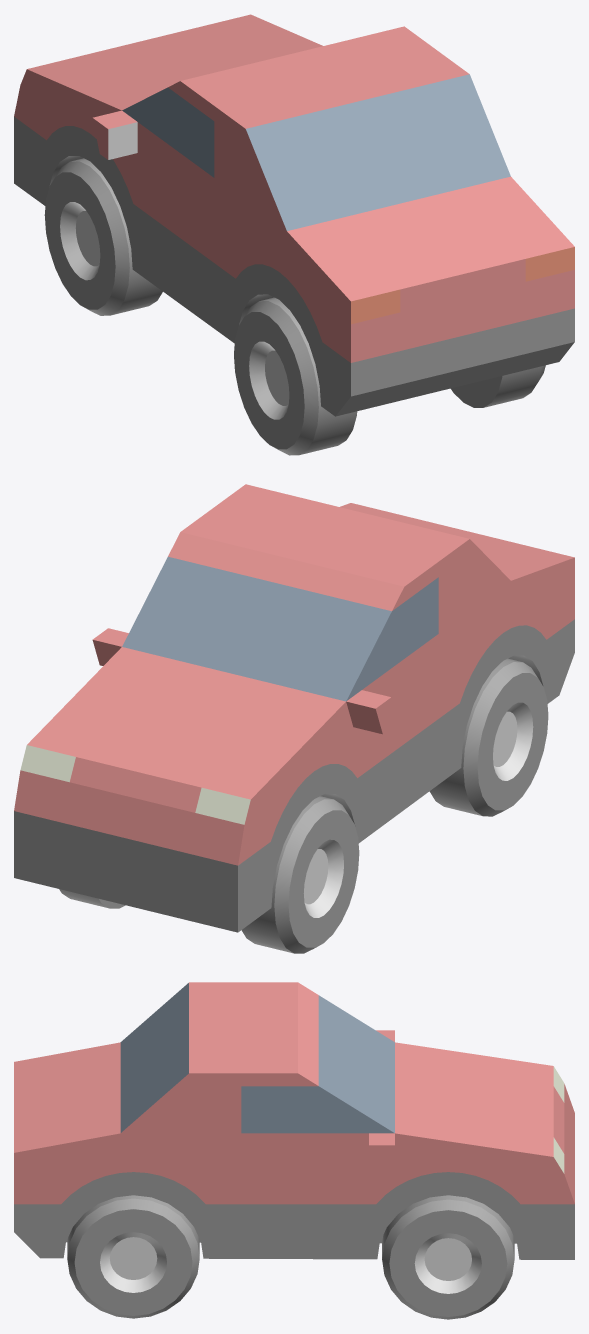
The model's file is carSedan.gltf.
3 renders of one model, top to bottom at view 1: azimuth 30°, elevation 25°; view 2: azimuth 150°, elevation 25°; view 3: azimuth 270°, elevation 25°, orthographic. The views are drawn at different scales.
Visible parts, largest first — view 1: body 7, wheelBackLeft 7, wheelFrontLeft 7, wheelBackRight 7; view 2: body 7, wheelBackLeft 7, wheelFrontLeft 7; view 3: body 7, wheelFrontRight 7, wheelBackRight 7.
Boxes of the visible parts, bbox=[...] form: body 7: bbox=[14, 14, 574, 416]; wheelBackLeft 7: bbox=[234, 297, 357, 455]; wheelFrontLeft 7: bbox=[44, 158, 162, 315]; wheelBackRight 7: bbox=[450, 365, 545, 407]; body 7: bbox=[14, 484, 574, 932]; wheelBackLeft 7: bbox=[429, 658, 548, 816]; wheelFrontLeft 7: bbox=[241, 796, 359, 953]; body 7: bbox=[14, 982, 574, 1259]; wheelFrontRight 7: bbox=[382, 1195, 514, 1319]; wheelBackRight 7: bbox=[67, 1195, 199, 1318].
Bounding box in the file's own units: 0.575 × 0.5764 × 1.18.
